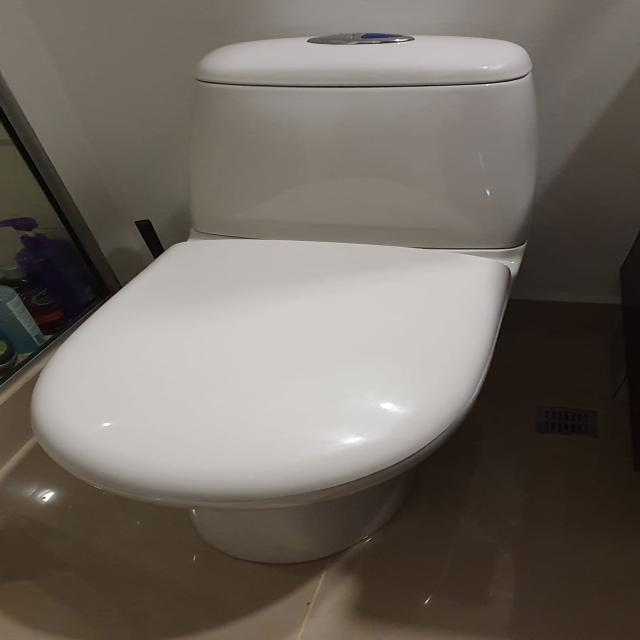toilet: (28, 32, 539, 564)
